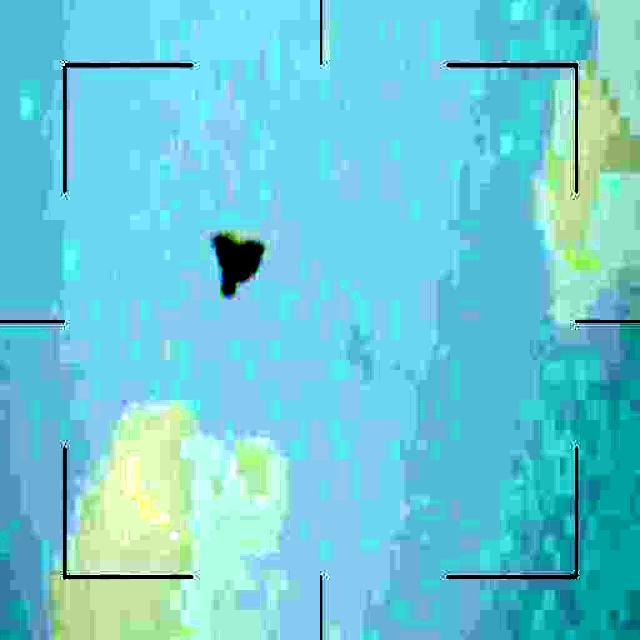bird: (211, 219, 271, 301)
